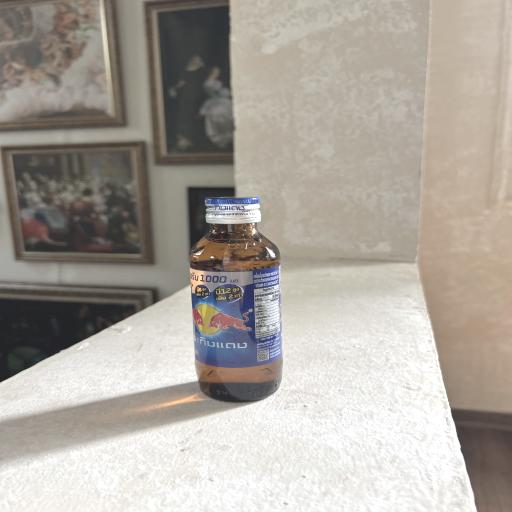bo_huc: (184, 196, 286, 404)
